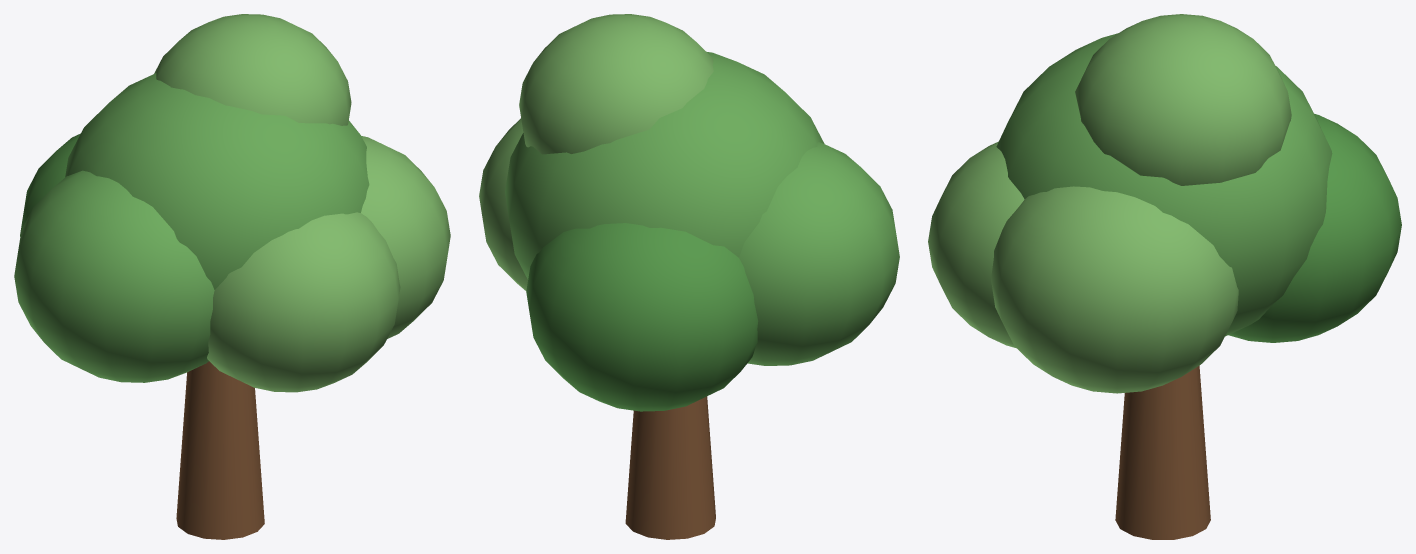
The model's file is prop_plaza_tree_ph.glb.
3 views of the same model, side by side, from view 1: azimuth 30°, elevation 25°; view 2: azimuth 150°, elevation 25°; view 3: azimuth 270°, elevation 25° (orthographic). The views are drawn at different scales.
Parts seen in each view (by area): view 1: prop_plaza_tree; view 2: prop_plaza_tree; view 3: prop_plaza_tree.
Part boxes in pixels (left/top/right/bottom): prop_plaza_tree: left=14, top=14, right=450, bottom=539; prop_plaza_tree: left=479, top=14, right=899, bottom=539; prop_plaza_tree: left=928, top=14, right=1401, bottom=539.
Size of the model in its own units: 2.64 by 3.09 by 2.58.
